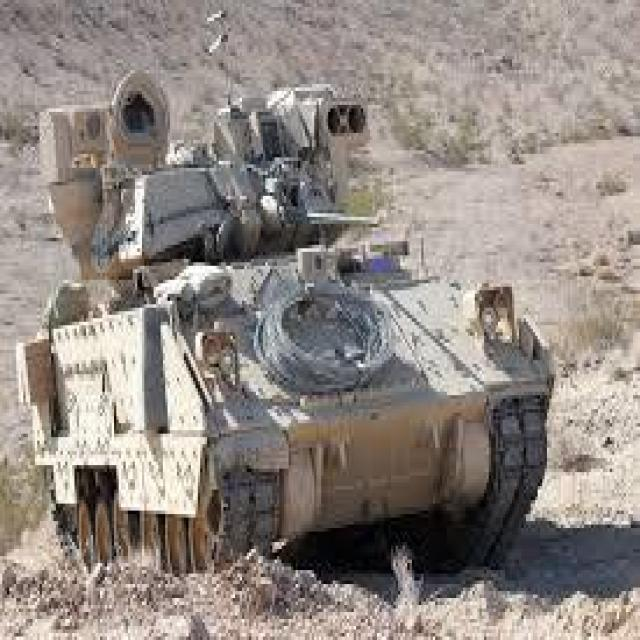Tanks: (15, 82, 558, 575)
